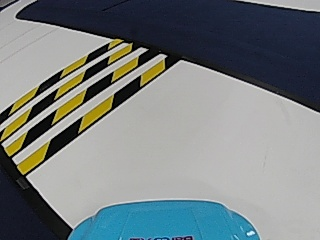bump: (5, 45, 143, 158)
